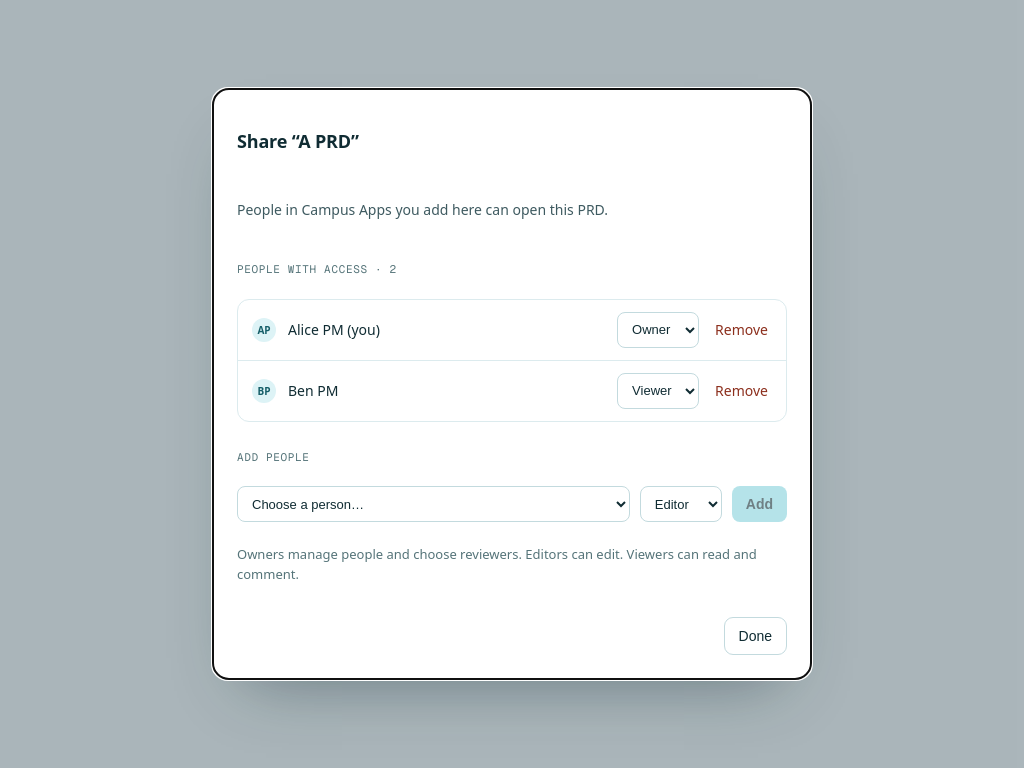
Test: ShareDialog › words not_in_organization for people and keeps the role shown
Step 1. Select "Viewer" in the dropdown named "Role for Ben PM" → (658, 391), box [617,373,699,409]
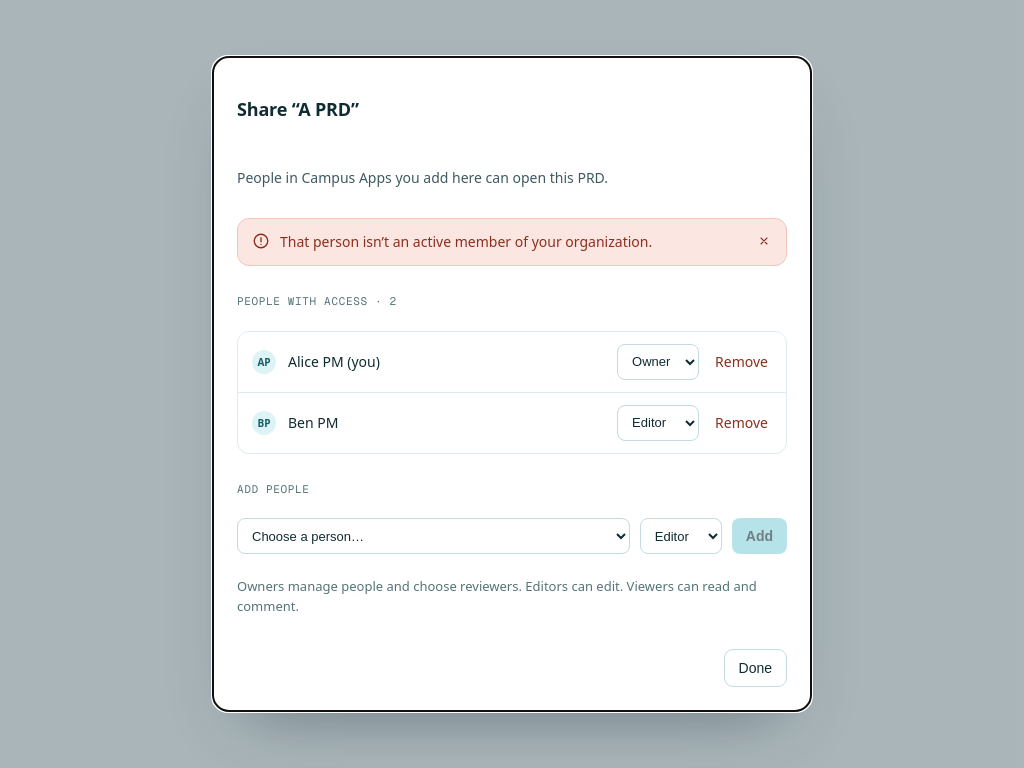
Now the text "That person isn’t an active member of your organization." is shown, box [280,232,652,251]
